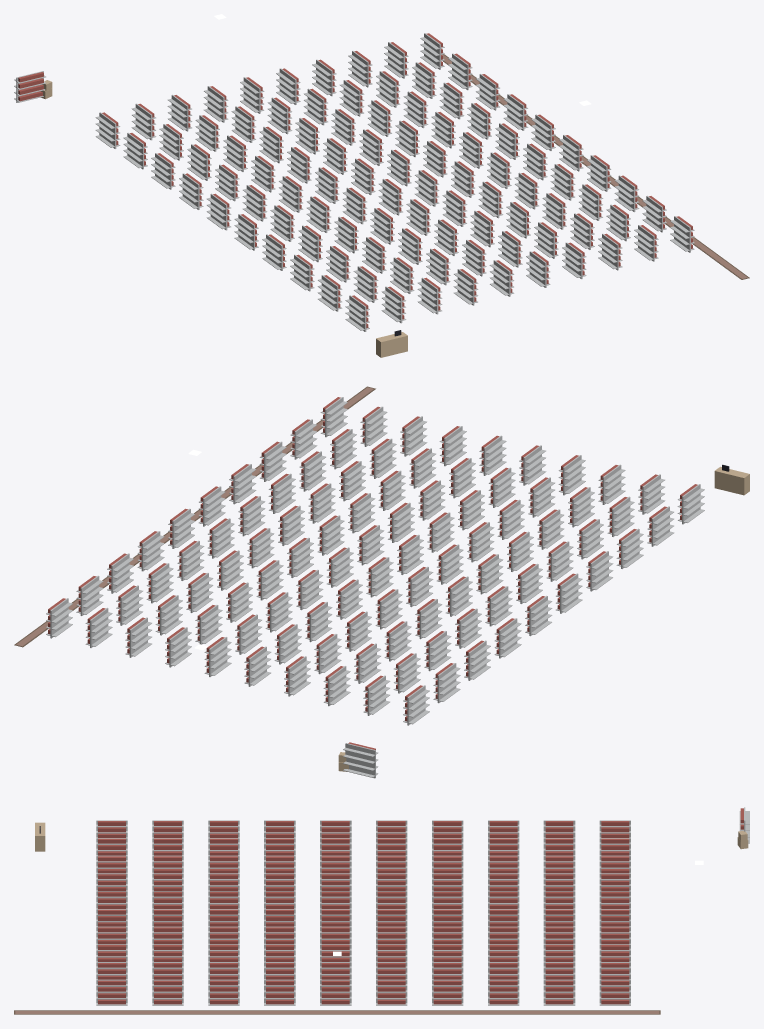
Rendered from fine-s0.glb.
3 views of the same model, one above another, from view 1: azimuth 30°, elevation 25°; view 2: azimuth 150°, elevation 25°; view 3: azimuth 270°, elevation 25° (orthographic). The views are drawn at different scales.
Visible parts, largest first — view 1: soft-s0, shelving.000, shop-counter.000, shelf.077, shelf.046, shelf.008, shelf.015, shelf.021, shelf.030, shelf.055, shelf.071, shelf.093 (+91 smaller); view 2: soft-s0, shelving.000, shop-counter.000, shelf.014, shelf.046, shelf.076, shelf.093, shelf.044, shelf.063, shelf.003, shelf.027, shelf.074 (+91 smaller); view 3: soft-s0, shelf.091, shelf.095, shelf.096, shelf.097, shelf.098, shelf.099, shelf.090, shelf.092, shelf.093, shelf.094, shelf.031 (+89 smaller).
Part boxes in pixels (box(x1,y1,x2,y2)): soft-s0: box(442, 54, 749, 279); shelving.000: box(14, 71, 46, 102); shop-counter.000: box(376, 330, 407, 357); shelf.077: box(542, 193, 566, 229); shelf.046: box(406, 199, 430, 235); shelf.008: box(317, 275, 342, 311); shelf.015: box(270, 205, 294, 241); shelf.021: box(195, 115, 219, 151); shelf.030: box(203, 86, 228, 122); shelf.055: box(414, 170, 439, 206); shelf.071: box(376, 71, 400, 107); shelf.093: box(503, 94, 528, 130); soft-s0: box(14, 386, 375, 647); shelving.000: box(343, 742, 378, 778); shop-counter.000: box(714, 464, 749, 495); shelf.014: box(485, 586, 512, 626); shelf.046: box(427, 512, 454, 552); shelf.076: box(308, 483, 335, 523); shelf.093: box(137, 531, 164, 571); shelf.044: box(366, 557, 393, 597); shelf.063: box(256, 560, 283, 600); shelf.003: box(494, 618, 521, 658); shelf.027: box(537, 509, 564, 549); shelf.074: box(247, 528, 274, 568); soft-s0: box(14, 1010, 660, 1014); shelf.091: box(543, 979, 575, 1005); shelf.095: box(320, 979, 351, 1005); shelf.096: box(264, 979, 295, 1005); shelf.097: box(208, 979, 239, 1005); shelf.098: box(152, 979, 183, 1005); shelf.099: box(96, 979, 127, 1005); shelf.090: box(599, 979, 630, 1005); shelf.092: box(488, 979, 519, 1005); shelf.093: box(432, 979, 463, 1005); shelf.094: box(376, 979, 407, 1005); shelf.031: box(543, 873, 575, 891).
Size of the model in its own units: 24.65 by 3.74 by 42.11.
